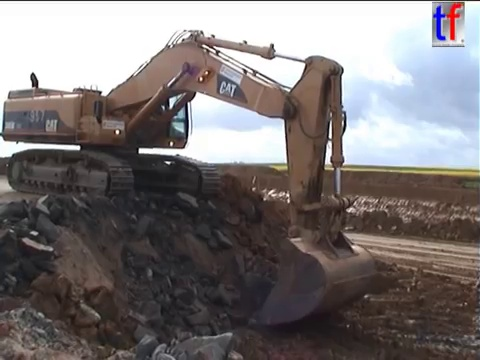excavator: (1, 26, 381, 332)
